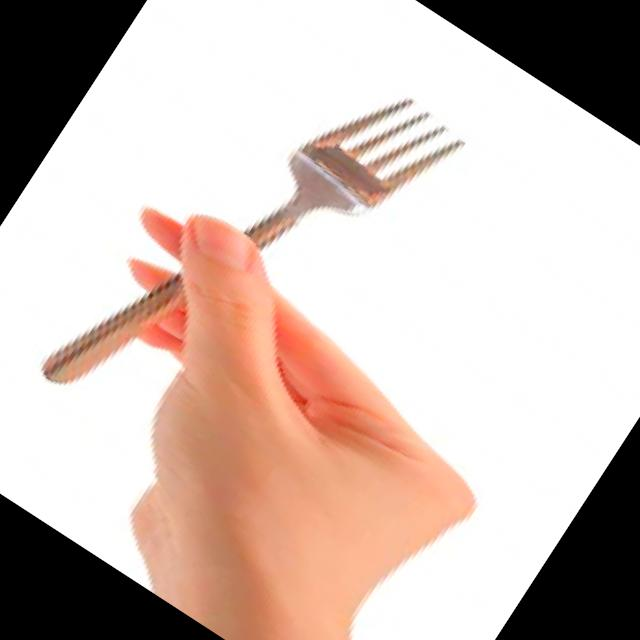fork: (32, 8, 474, 506)
